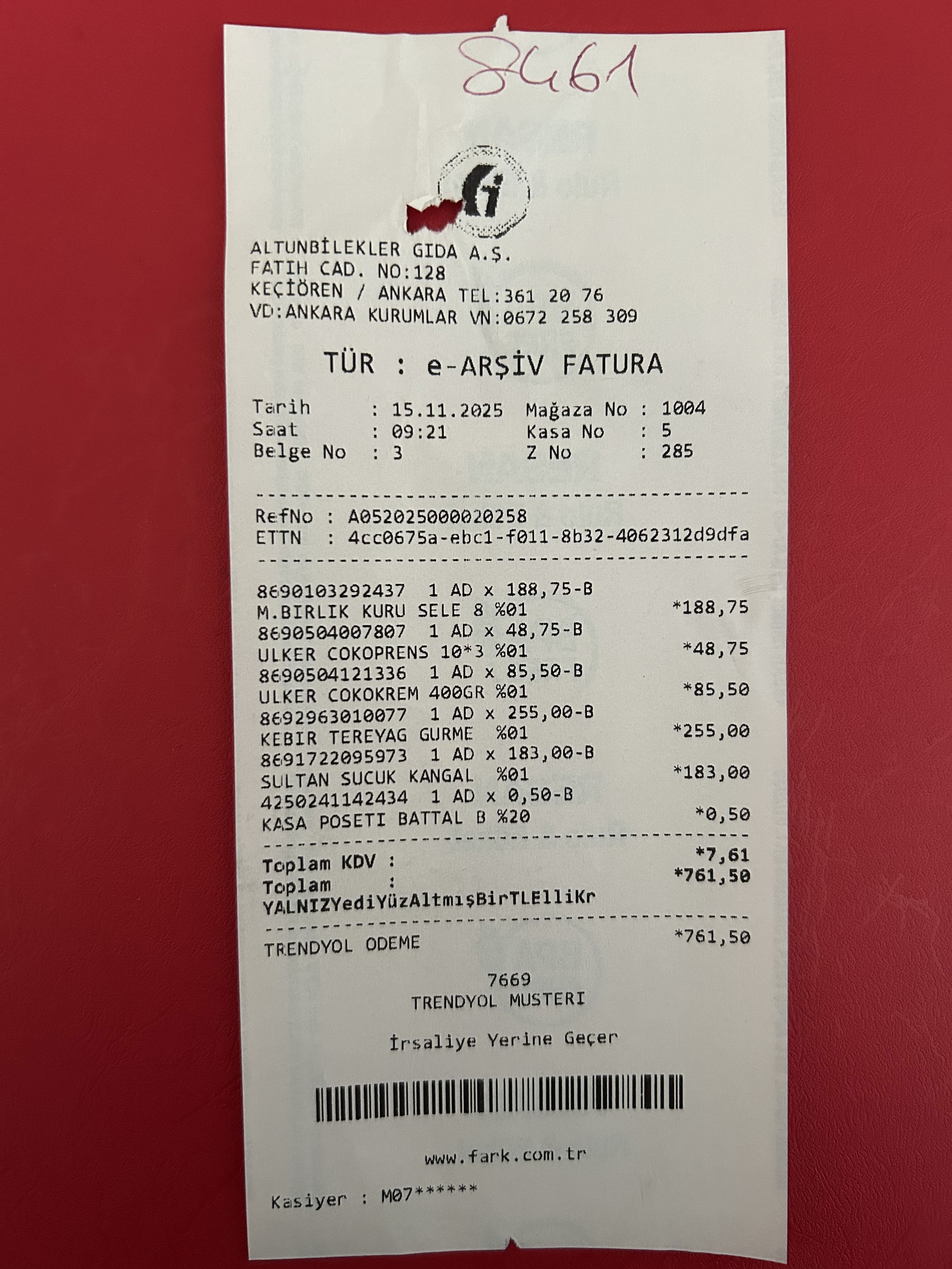date: (385, 397, 507, 420)
price: (681, 861, 759, 890)
workplace: (244, 235, 621, 306)
